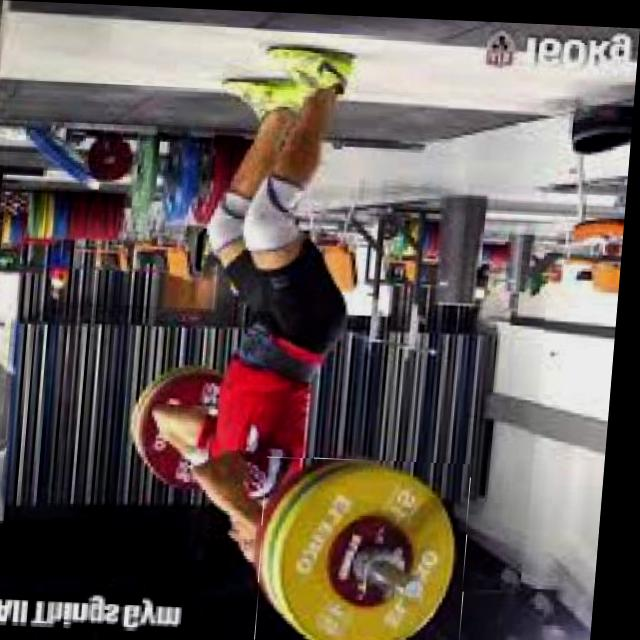barbell: (264, 455, 482, 640)
